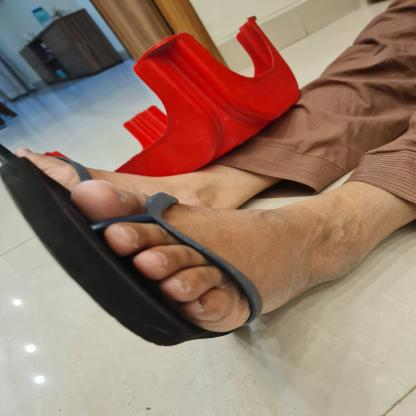leg: (0, 154, 416, 352)
